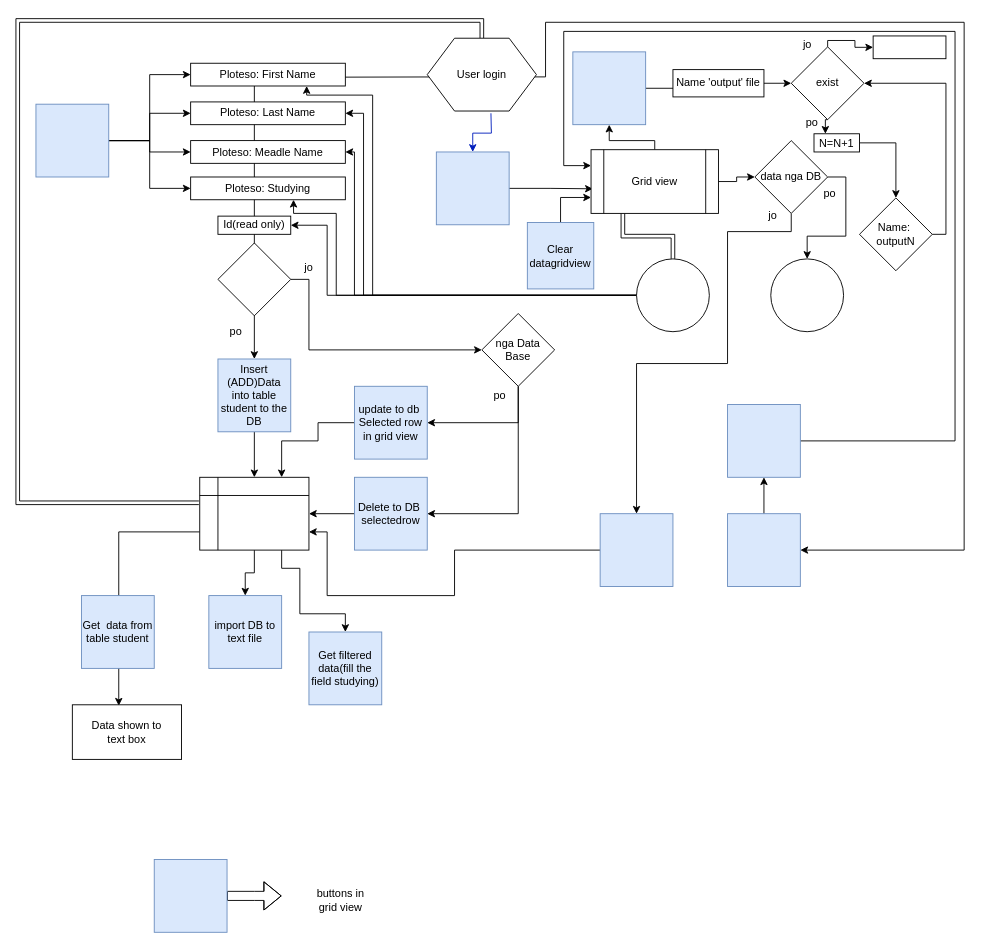
Image size: 987x948. Some labels were removed from this diagram. Here are the shapes that lost their labels. From the top down, the centre of each, then its label:
(x=909, y=47): create File
(x=609, y=88): Save data to file Excel
(x=72, y=140): Clear all this field
(x=472, y=188): Import from database and show
(x=254, y=279): te dhena nga user
(x=672, y=295): select row
(x=807, y=295): Edit cell (double click on it) update to DB
(x=763, y=440): Load file to the grid view
(x=254, y=513): Data Base
(x=636, y=549): Add Data to Database
(x=763, y=549): Chose file(Excel)
